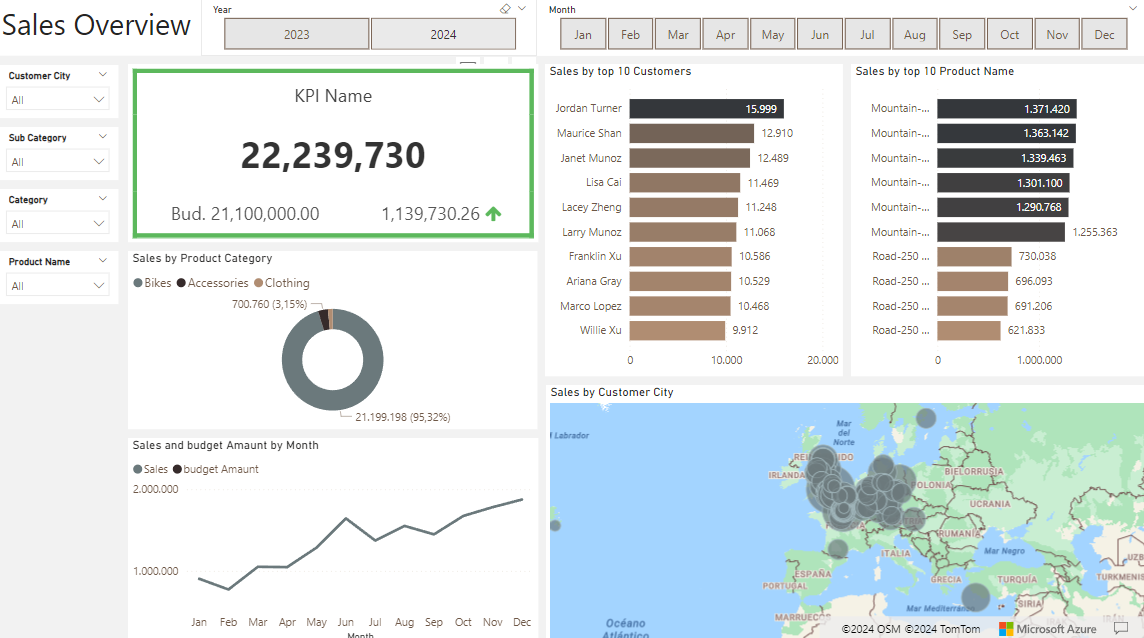

What the dashboard file says about the page in this screenshot:
{"tool":"powerbi","page":{"name":"Sales Overview","canvas":[1280,720],"ordinal":0},"visuals":[{"type":"textbox","box":[0,0,1280,63.2],"z":0},{"type":"slicer","fields":{"Values":["customer.Customer City"]},"box":[0,72.9,135.2,59.3],"z":1000},{"type":"slicer","fields":{"Values":["product.Sub Category"]},"box":[0,142,135.2,59.3],"z":2000},{"type":"slicer","fields":{"Values":["product.Product Category"]},"box":[0,211.1,135.2,59.3],"z":3000},{"type":"slicer","fields":{"Values":["product.Product Name"]},"box":[0,280.1,135.2,59.3],"z":4000},{"type":"slicer","fields":{"Values":["calendar.Year"]},"box":[226.3,0,373.9,63.3],"z":5000},{"type":"slicer","fields":{"Values":["calendar.MonthShort"]},"box":[600.2,0,679.8,63.3],"z":6000},{"type":"BBED0A4D4D8D44CE93CF2DAFADEE466C","fields":{"actual":["internetSales.Sales"],"target1":["Budget.budget Amaunt"],"target2":["Key mesures.sales - budget"]},"box":[145.1,72.5,455.8,197.9],"z":7000},{"type":"donutChart","fields":{"Category":["product.Product Category"],"Y":["Key mesures.Sales"]},"box":[145.1,280.3,454.9,197.9],"z":8000},{"type":"lineChart","fields":{"Y":["Key mesures.Sales","Key mesures.budget Amaunt"],"Category":["calendar.MonthShort"]},"box":[145.1,488.1,455.8,231.9],"z":9000},{"type":"barChart","title":"Sales by top 10 Customers","fields":{"Y":["Key mesures.Sales"],"Category":["customer.Full Name"]},"box":[609,72.5,331.3,347.5],"z":10000},{"type":"barChart","title":"Sales by top 10 Product Name","fields":{"Y":["Key mesures.Sales"],"Category":["product.Product Name"]},"box":[949.3,72.5,330.4,347.5],"z":11000},{"type":"azureMap","fields":{"Category":["customer.Customer City"],"Size":["Key mesures.Sales"]},"box":[609.9,429,669.9,291],"z":12000}]}

Visuals, with their boxes in screenshot pixels (x1, y1, x2, y2), scaled from the page's 1280x720 canvas onto the 1144x638 screenshot:
textbox: rect(0, 0, 1143, 56)
slicer - customer.Customer City: rect(0, 65, 121, 117)
slicer - product.Sub Category: rect(0, 126, 121, 178)
slicer - product.Product Category: rect(0, 187, 121, 240)
slicer - product.Product Name: rect(0, 248, 121, 301)
slicer - calendar.Year: rect(202, 0, 536, 56)
slicer - calendar.MonthShort: rect(536, 0, 1143, 56)
BBED0A4D4D8D44CE93CF2DAFADEE466C - internetSales.Sales x Budget.budget Amaunt: rect(130, 64, 537, 240)
donutChart - product.Product Category x Key mesures.Sales: rect(130, 248, 536, 424)
lineChart - Key mesures.Sales x Key mesures.budget Amaunt: rect(130, 433, 537, 637)
"Sales by top 10 Customers" barChart: rect(544, 64, 840, 372)
"Sales by top 10 Product Name" barChart: rect(848, 64, 1143, 372)
azureMap - customer.Customer City x Key mesures.Sales: rect(545, 380, 1143, 637)
